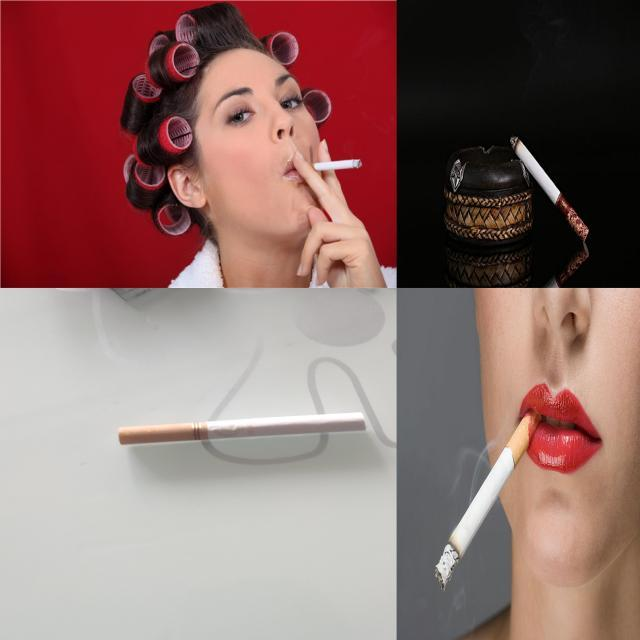cigarette: (434, 409, 541, 592), (508, 130, 590, 243), (116, 412, 368, 445), (304, 158, 363, 172)
